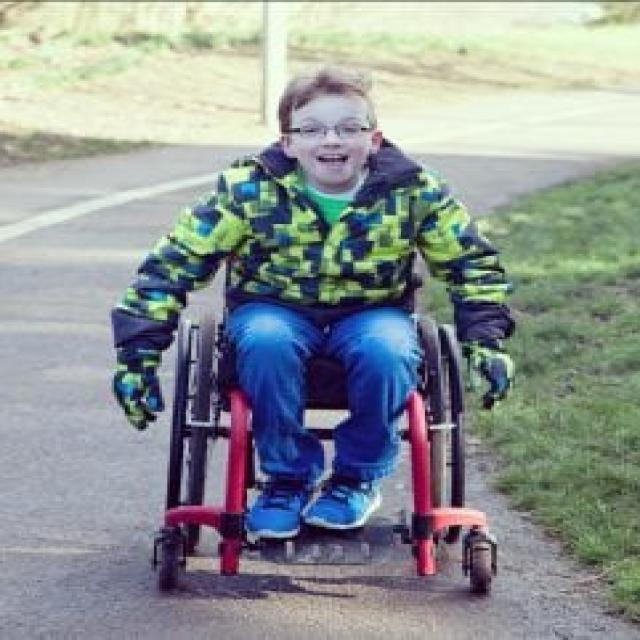wheelchairs: (129, 200, 560, 629)
